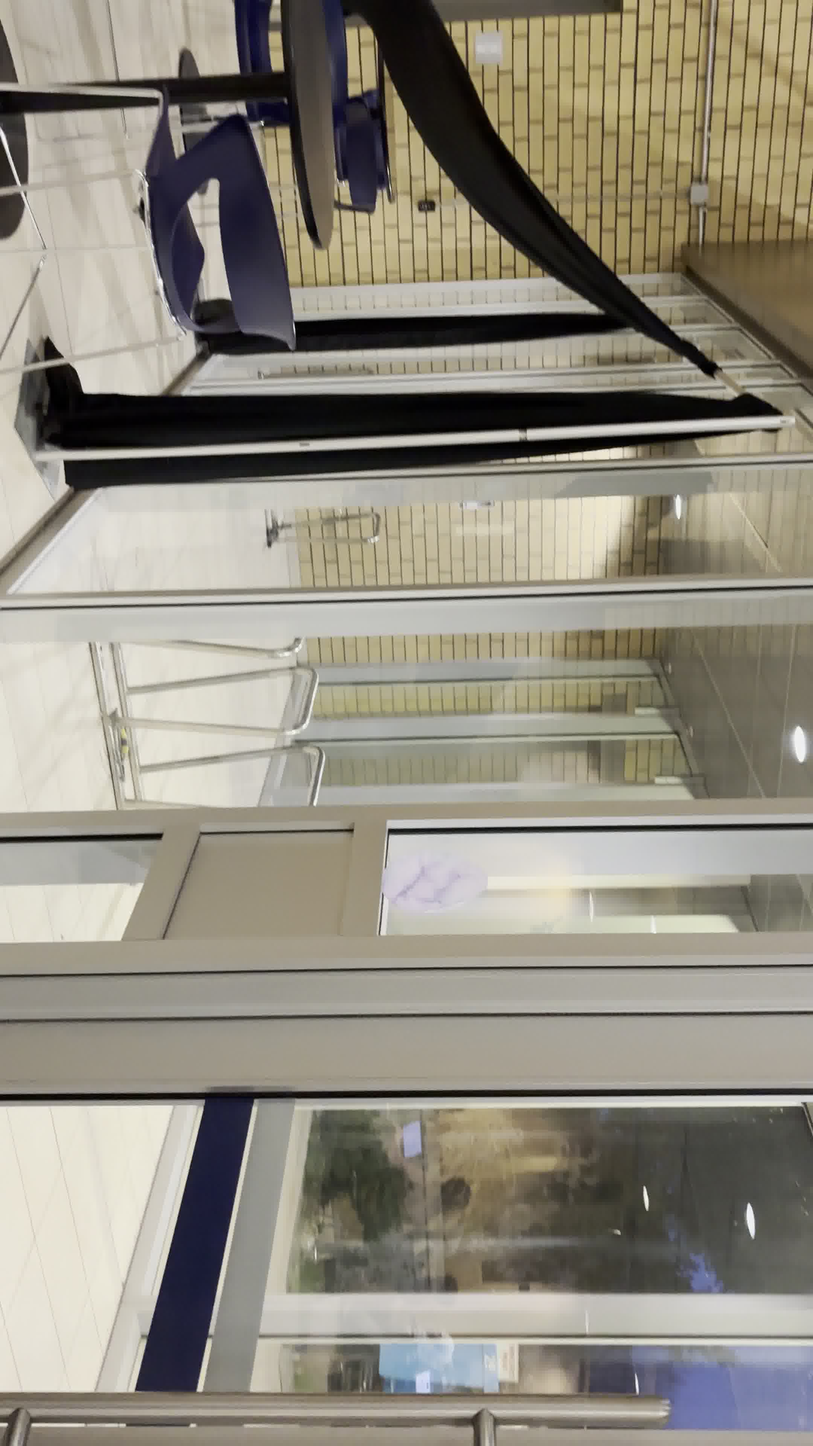Target: (379, 847, 491, 914)
